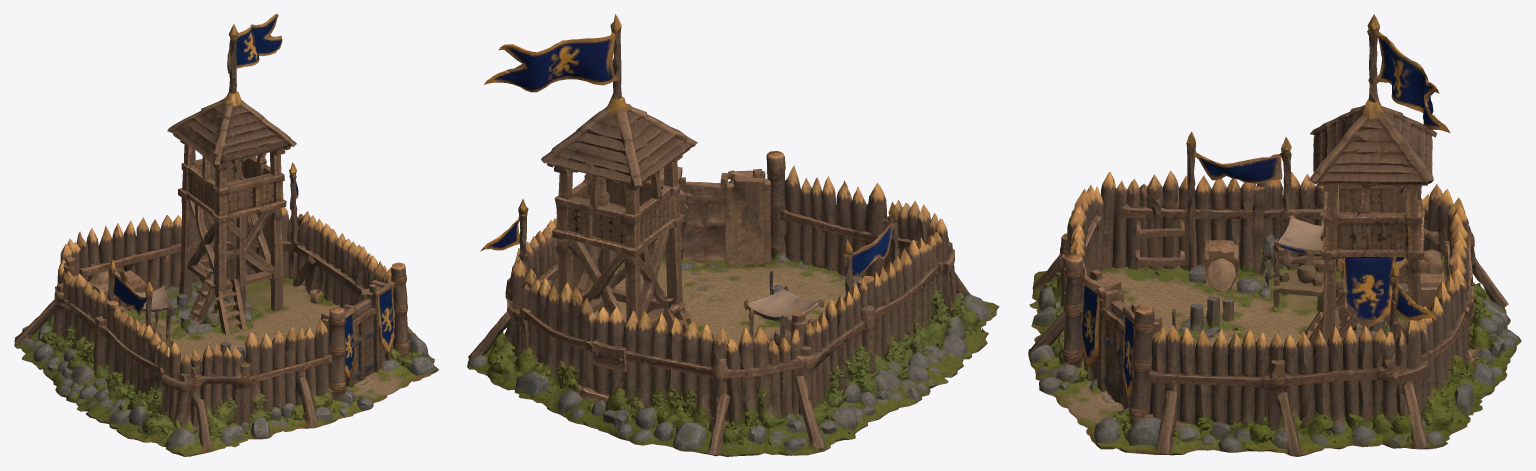
File: lionwatch-palisade.glb
3 views of the same model, side by side, from view 1: azimuth 30°, elevation 25°; view 2: azimuth 150°, elevation 25°; view 3: azimuth 270°, elevation 25° (orthographic). The views are drawn at different scales.
Visible parts, largest first — view 1: geometry_0; view 2: geometry_0; view 3: geometry_0.
Part boxes in pixels (x1,y1,x2,y2): geometry_0: [14, 14, 438, 456]; geometry_0: [467, 14, 999, 456]; geometry_0: [1028, 14, 1521, 456].
Size of the model in its own units: 1.85 by 1.59 by 1.9.
Materials: 1 (1 with a texture image).
